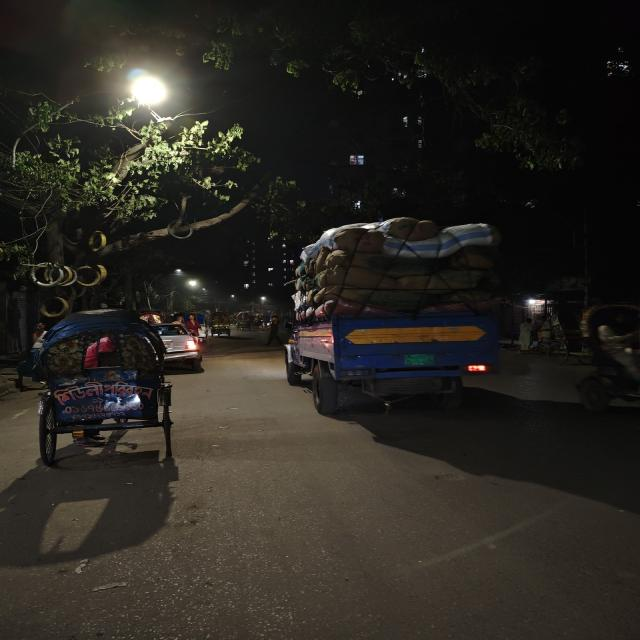car: (150, 315, 214, 369)
pickup_van: (284, 214, 522, 416)
rickshaw: (24, 303, 180, 469), (562, 299, 640, 425), (208, 313, 235, 339)
